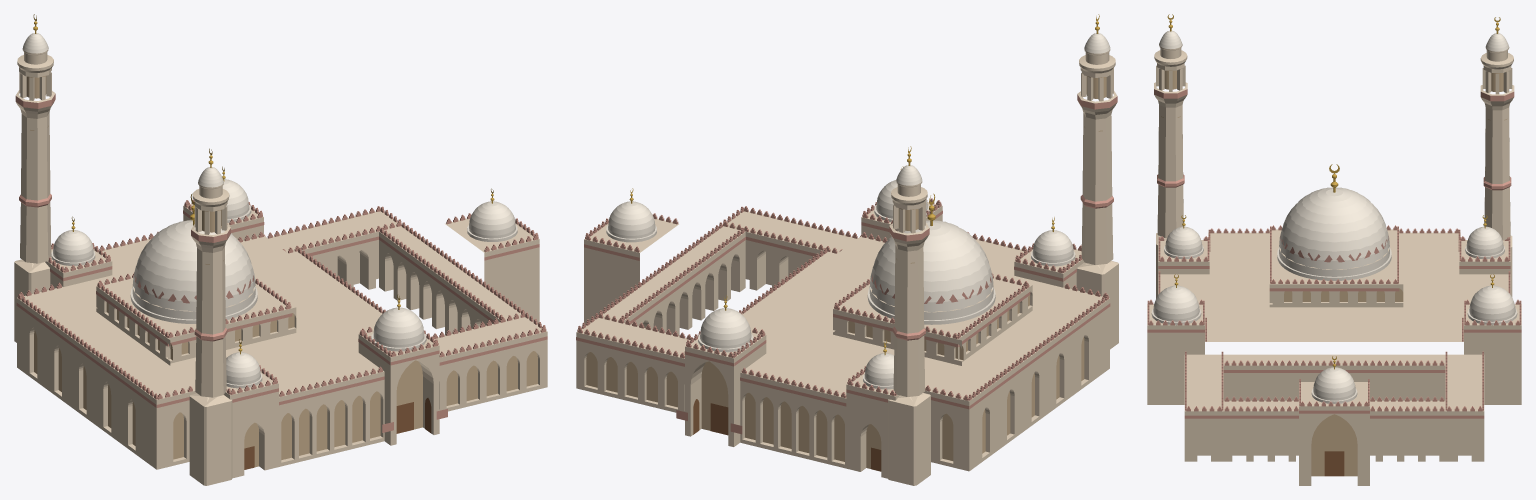
Rendered from manama-al-fateh-mosque.detail.glb.
3 views of the same model, side by side, from view 1: azimuth 30°, elevation 25°; view 2: azimuth 150°, elevation 25°; view 3: azimuth 270°, elevation 25° (orthographic). The views are drawn at different scales.
Visible parts, largest first — view 1: Al Fateh Grand Mosque; view 2: Al Fateh Grand Mosque; view 3: Al Fateh Grand Mosque.
Boxes of the visible parts, x1,y1,x2,y2 form: Al Fateh Grand Mosque: (14, 14, 547, 485); Al Fateh Grand Mosque: (576, 14, 1118, 485); Al Fateh Grand Mosque: (1147, 14, 1521, 485).
Size of the model in its own units: 97.7 by 70.69 by 81.1.
